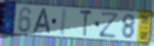6: (17, 6, 33, 34)
8: (120, 14, 136, 40)
A: (31, 8, 52, 35)
I: (59, 7, 69, 37)
T: (79, 9, 93, 38)
Z: (98, 11, 120, 40)
